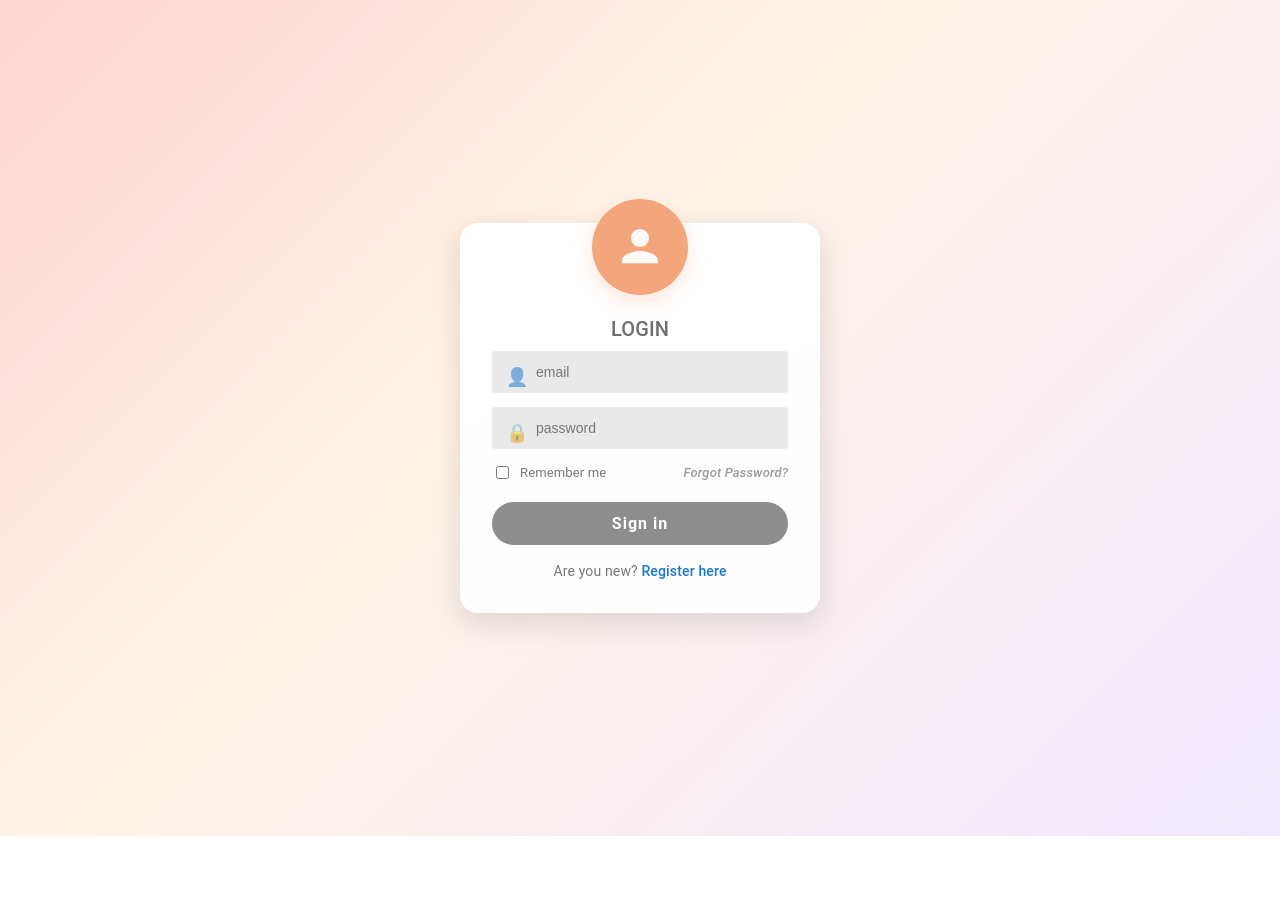
Test case: Client-side validation › Login shows email and password length errors
Type "bad-email" into the field with placeholder "email" at (654, 372), box [534, 363, 774, 381]
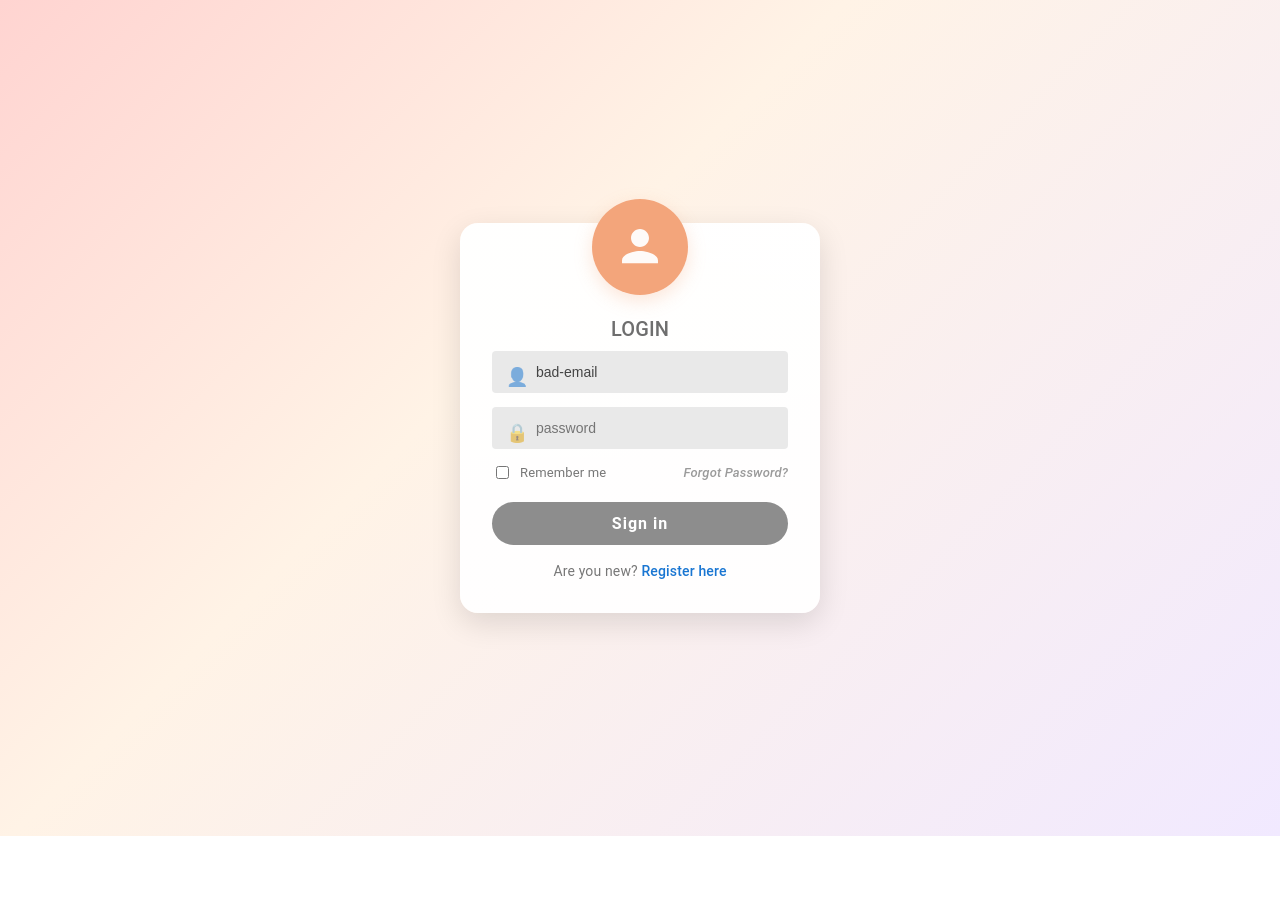
Type "123" into the password field with placeholder "password" at (654, 428), box [534, 419, 774, 437]
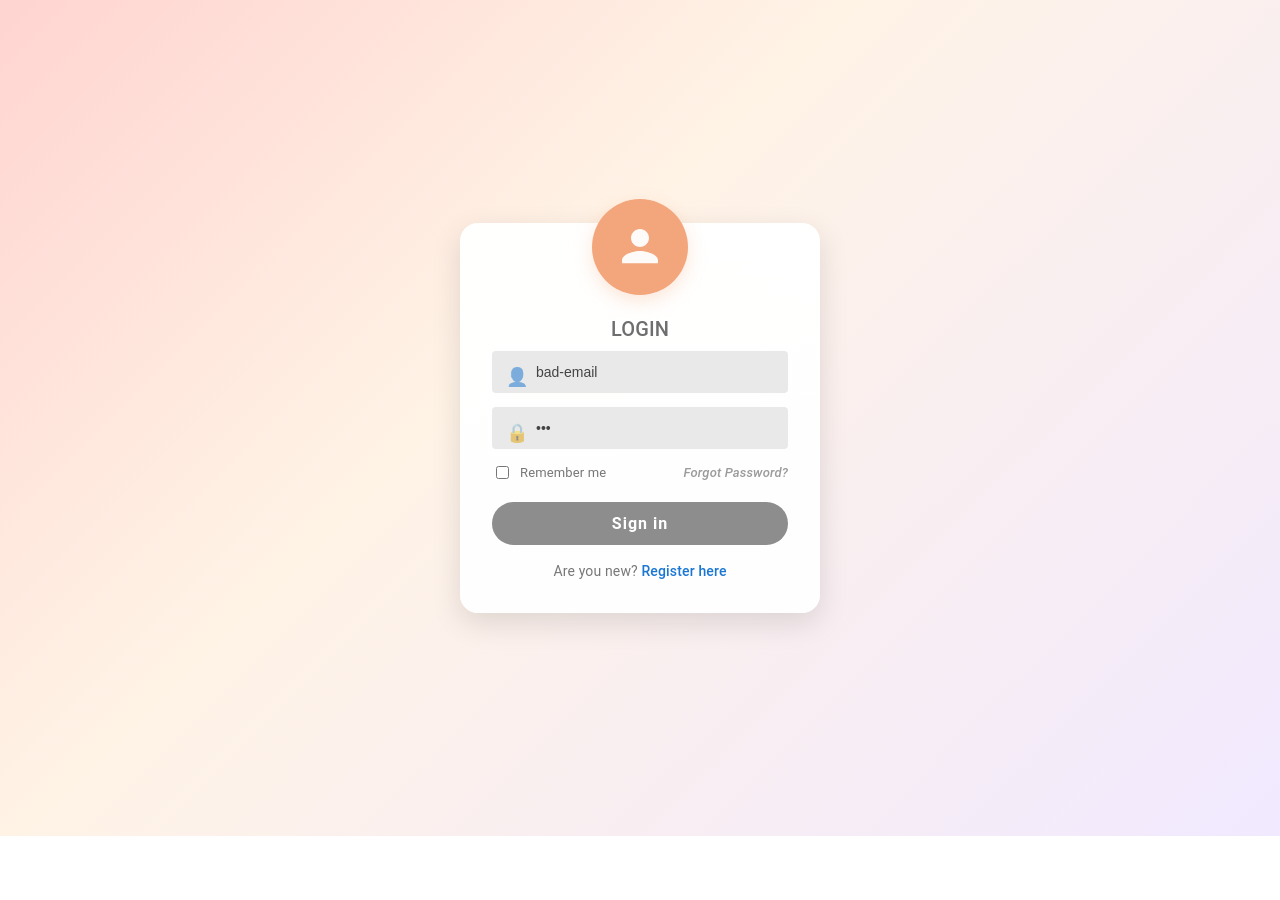
Click the button "Sign in" at (640, 524), box [492, 502, 788, 545]
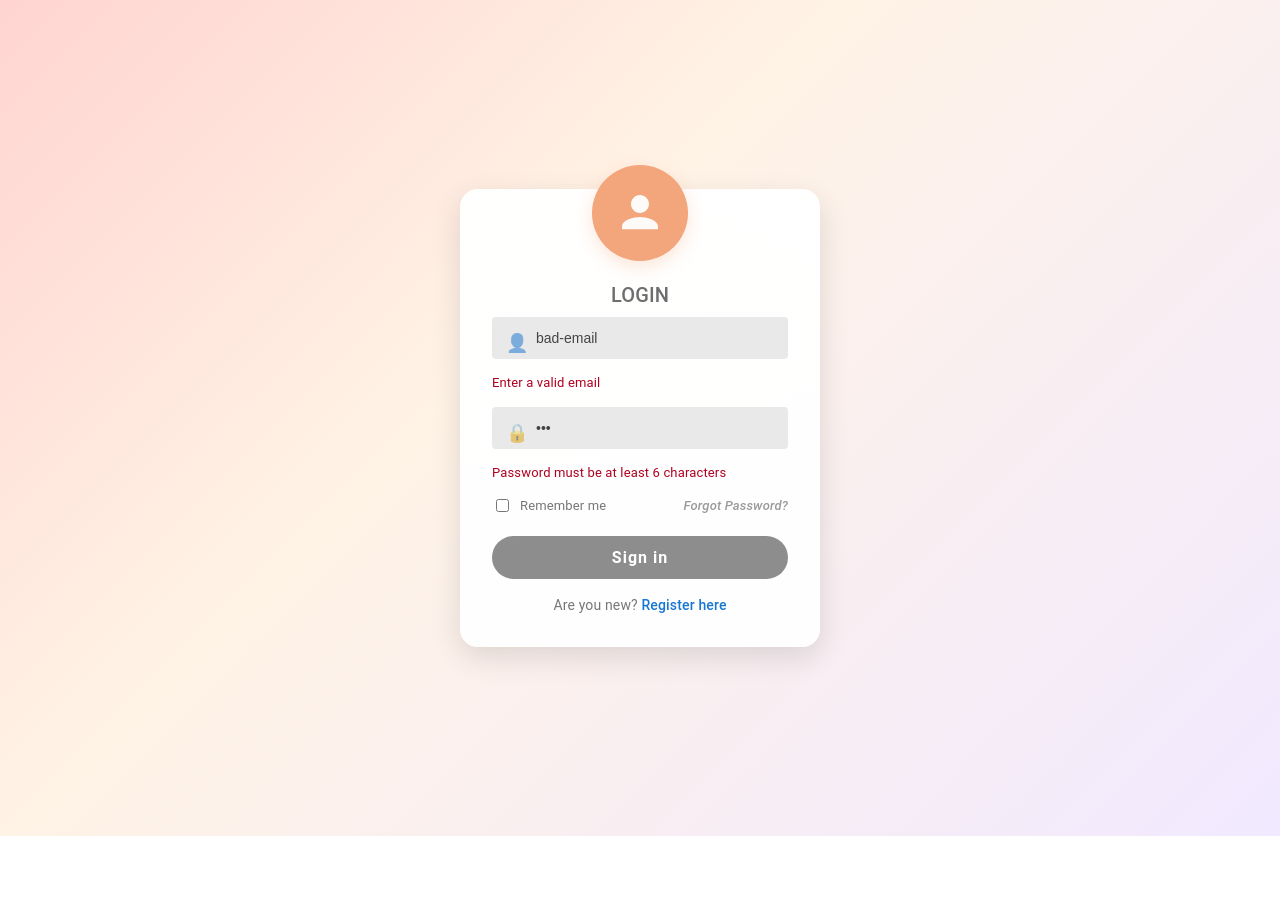
Result: the text "Enter a valid email" is shown at [492, 375, 600, 390]
Result: the text "Password must be at least 6 characters" is shown at [492, 465, 726, 480]
